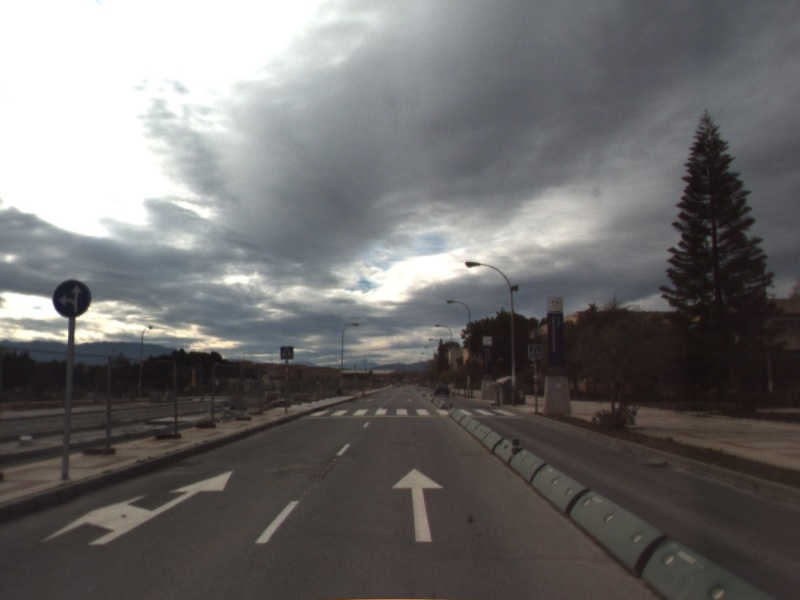STRAIGHT: (390, 466, 446, 544)
STRAIGHT_LEFT: (38, 469, 235, 547)
